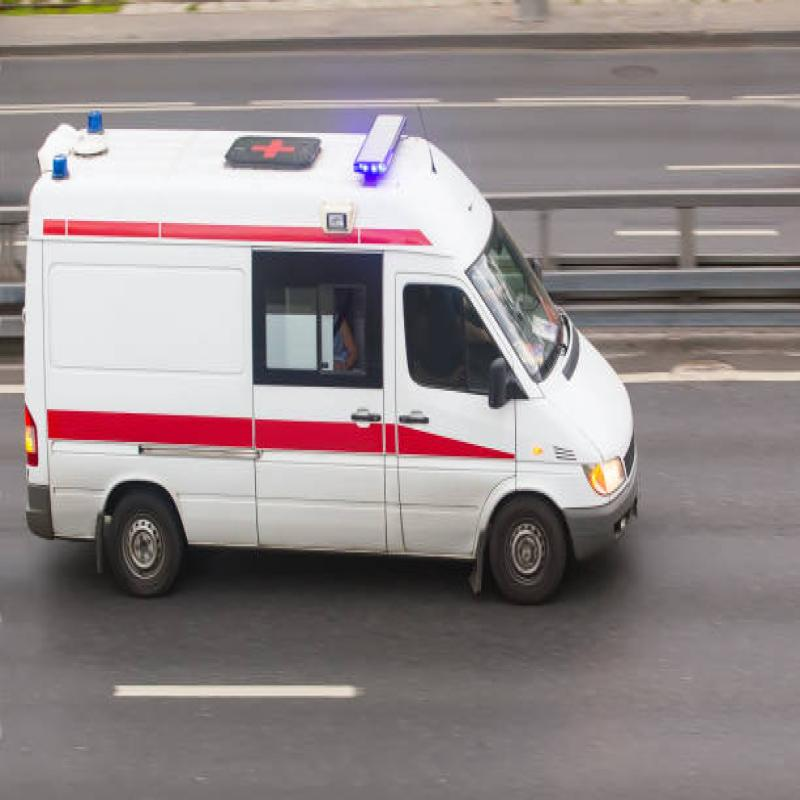ambulance: (17, 82, 646, 642)
